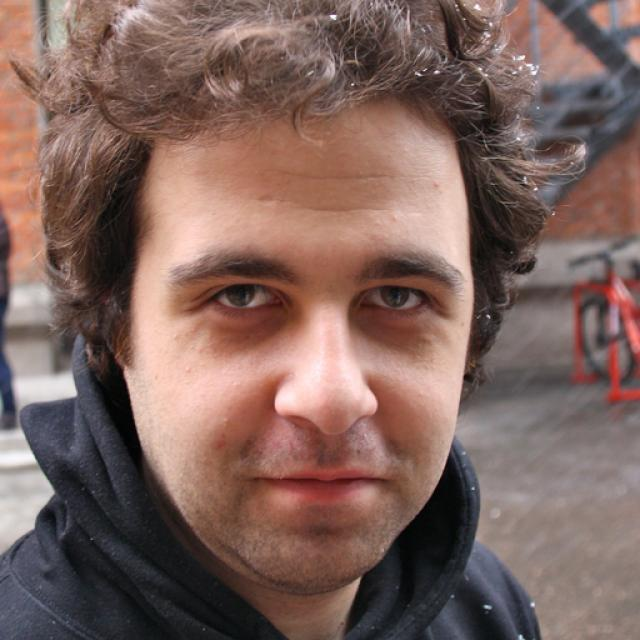Acne: (426, 179, 447, 192), (390, 211, 400, 220)
Wrinkle: (279, 165, 414, 182), (303, 201, 391, 217)
